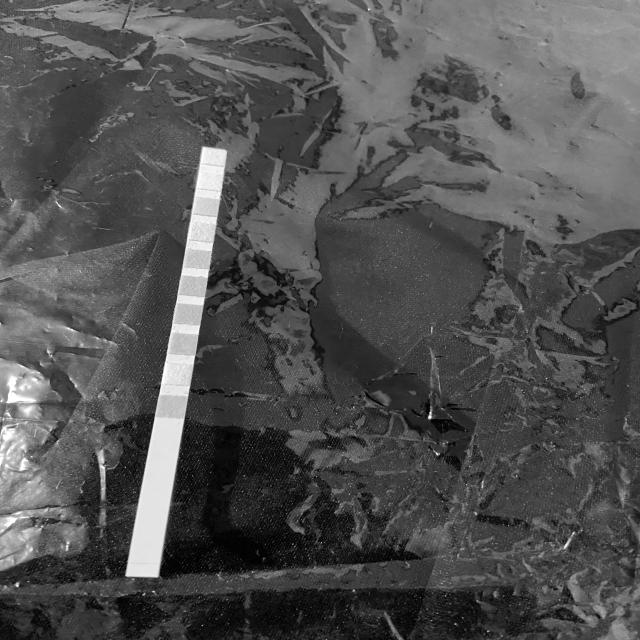Bilirubin: (166, 365, 190, 384)
Blood: (181, 278, 205, 294)
Glucose: (158, 396, 184, 416)
Ketone: (171, 334, 195, 353)
Leukocytes: (195, 199, 217, 214), (202, 151, 225, 163)
Nitrite: (198, 175, 222, 188)
Protein: (190, 226, 214, 240)
SpGravity: (176, 305, 202, 323)
background: (0, 0, 640, 640)
pH: (186, 252, 210, 266)
strip: (126, 146, 228, 577)
